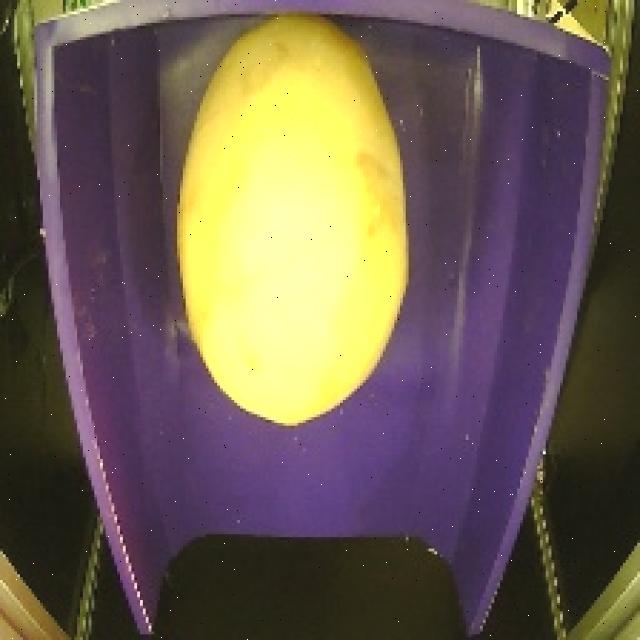full_potato: (174, 9, 428, 437)
